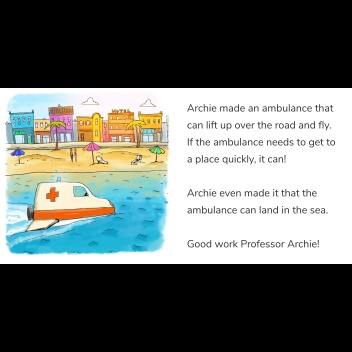latin: (186, 118, 332, 133), (185, 135, 337, 149), (185, 101, 336, 114), (185, 237, 320, 250), (185, 185, 318, 198), (185, 203, 329, 215), (185, 152, 287, 167)
